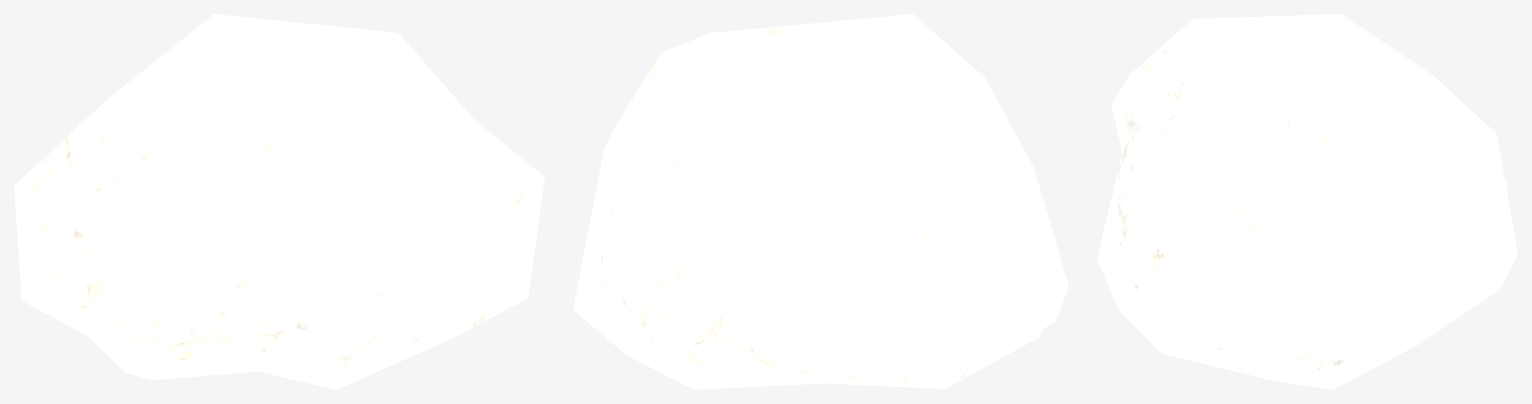
The model's file is granite-medium.glb.
The picture shows the model from 3 angles, left to right: view 1: azimuth 30°, elevation 25°; view 2: azimuth 150°, elevation 25°; view 3: azimuth 270°, elevation 25°; orthographic projection. The views are drawn at different scales.
Parts seen in each view (by area): view 1: rock026_LOD4; view 2: rock026_LOD4; view 3: rock026_LOD4.
Boxes of the visible parts, x1,y1,x2,y2 form: rock026_LOD4: [14, 14, 544, 389]; rock026_LOD4: [573, 14, 1068, 389]; rock026_LOD4: [1097, 14, 1517, 389].
Bounding box in the file's own units: 0.9695 × 0.643 × 0.8196.
Materials: 1 (1 with a texture image).
